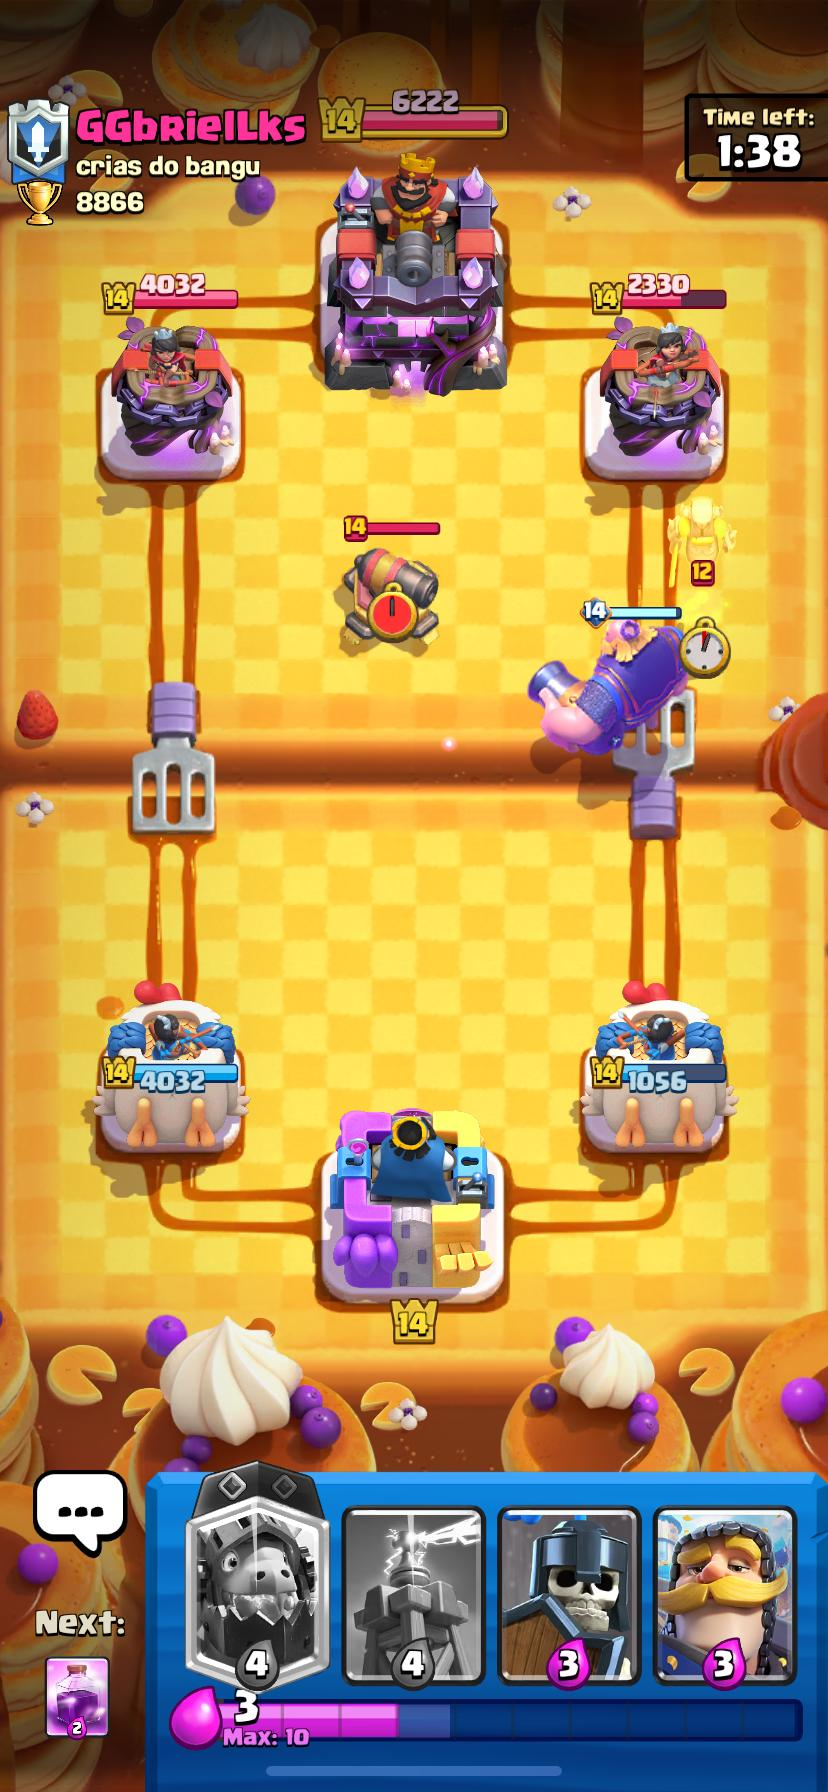EKingTower: (321, 155, 505, 395)
Ecan: (343, 549, 437, 639)
EnemyPrincessTower: (584, 315, 723, 480), (101, 318, 240, 480)
OEVRoyalG: (530, 617, 687, 754)
OwnKingTower: (327, 1109, 501, 1301)
OwnPrincessTower: (581, 982, 737, 1151), (93, 983, 248, 1151)
